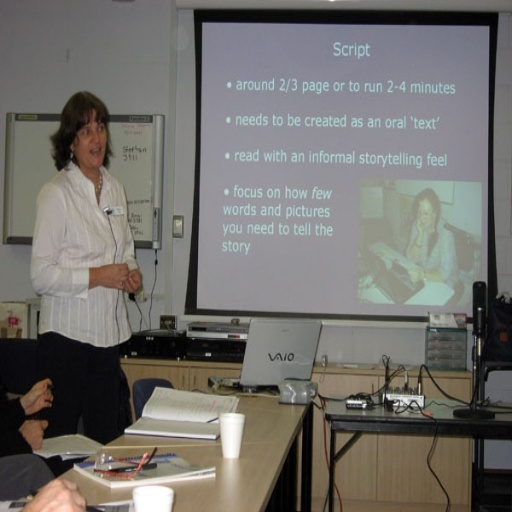hand: (18, 475, 87, 510), (20, 376, 53, 414), (18, 419, 49, 450), (100, 260, 131, 290), (121, 267, 143, 294), (414, 218, 424, 234)
